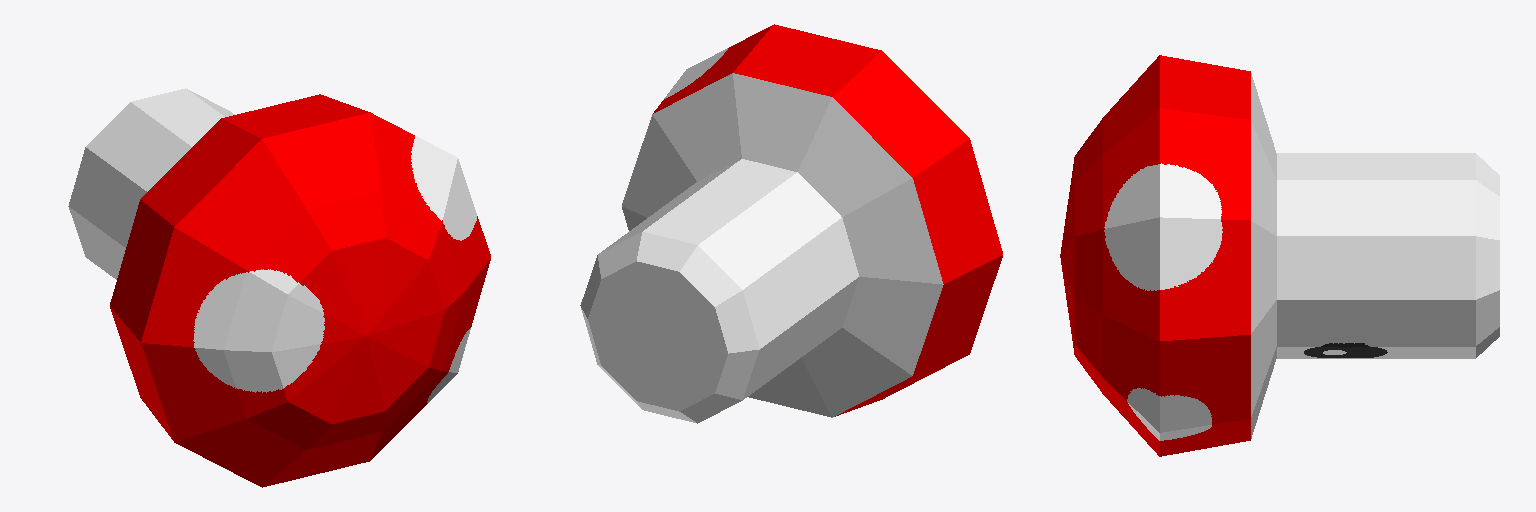
3 renders of one model, left to right at view 1: azimuth 30°, elevation 25°; view 2: azimuth 150°, elevation 25°; view 3: azimuth 270°, elevation 25°, orthographic.
Parts seen in each view (by area): view 1: mushroom_Cylinder; view 2: mushroom_Cylinder; view 3: mushroom_Cylinder.
Part boxes in pixels (left/top/right/bottom): mushroom_Cylinder: left=68, top=88, right=490, bottom=487; mushroom_Cylinder: left=580, top=24, right=1002, bottom=423; mushroom_Cylinder: left=1060, top=55, right=1499, bottom=456.
Size of the model in its own units: 4.35 by 4.14 by 4.73.
1 materials, 1 textured.